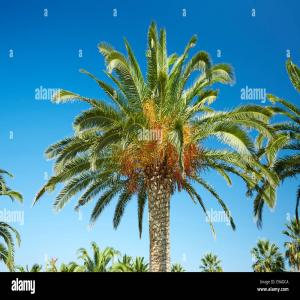palm tree: (31, 18, 282, 272), (0, 167, 23, 271), (249, 236, 285, 272), (199, 251, 223, 272)
